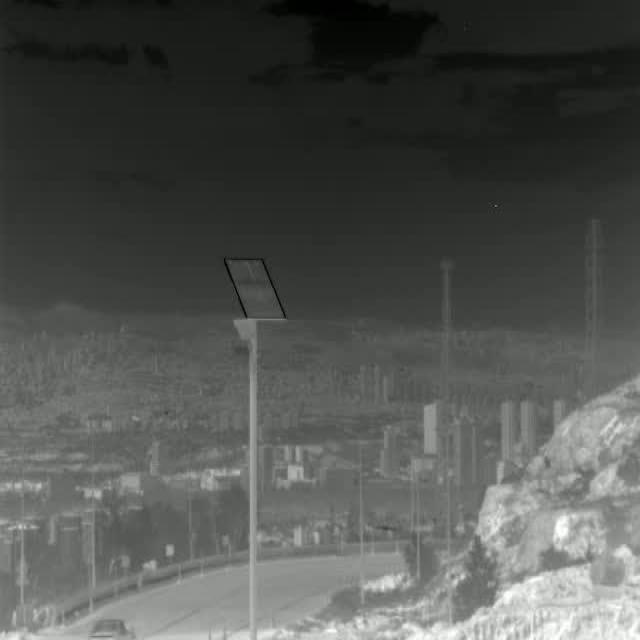Car: (85, 617, 135, 640)
